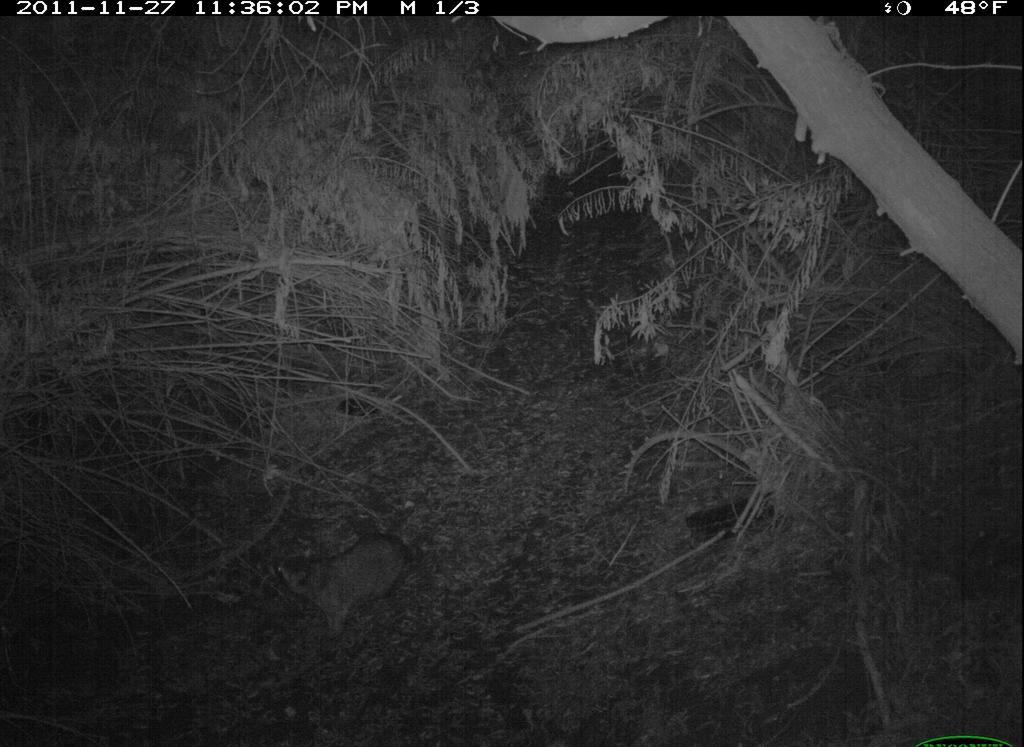raccoon: (257, 527, 425, 650)
